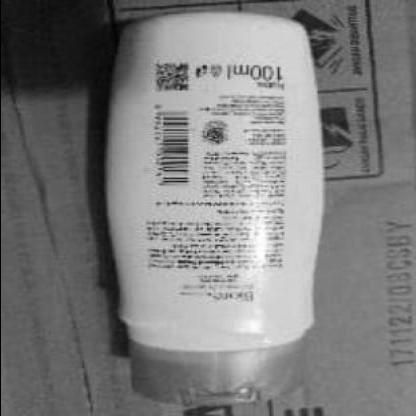objects: (107, 9, 314, 404)
